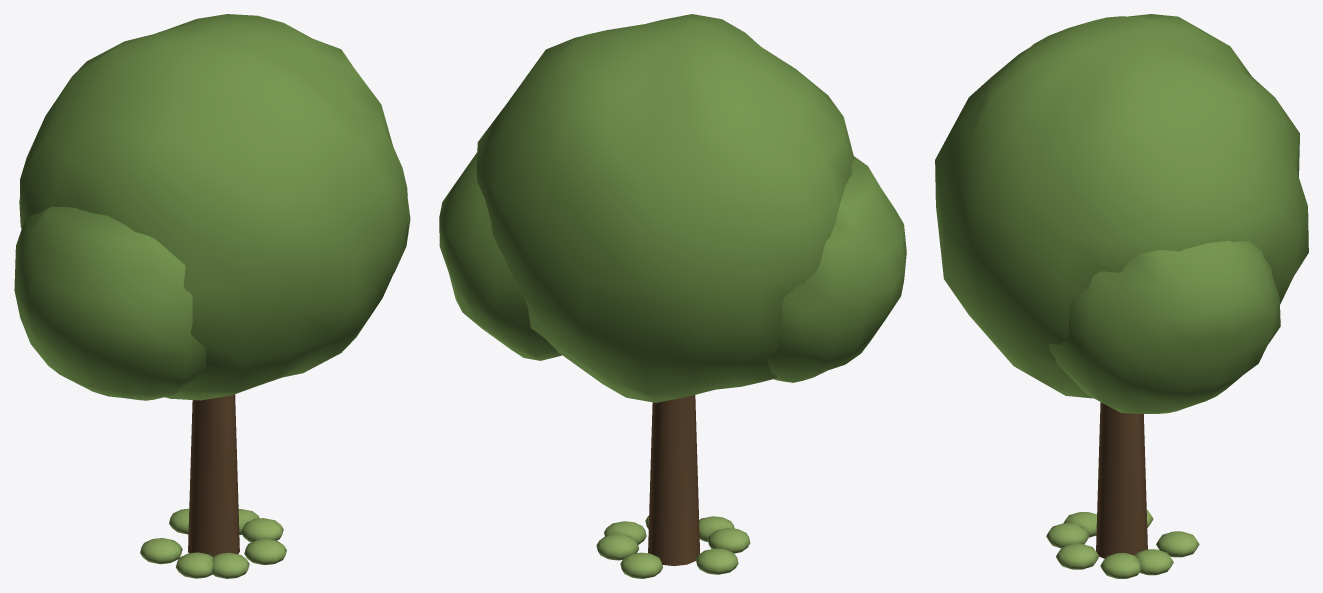
File: tree_round.glb
The picture shows the model from 3 angles, left to right: view 1: azimuth 30°, elevation 25°; view 2: azimuth 150°, elevation 25°; view 3: azimuth 270°, elevation 25°; orthographic projection.
Parts seen in each view (by area): view 1: tree_round; view 2: tree_round; view 3: tree_round.
Part boxes in pixels (box(x1,y1,x2,y2)): tree_round: box(14, 14, 410, 578); tree_round: box(439, 14, 906, 578); tree_round: box(935, 14, 1308, 578).
Bounding box in the file's own units: 1.91 × 2.36 × 1.54.
